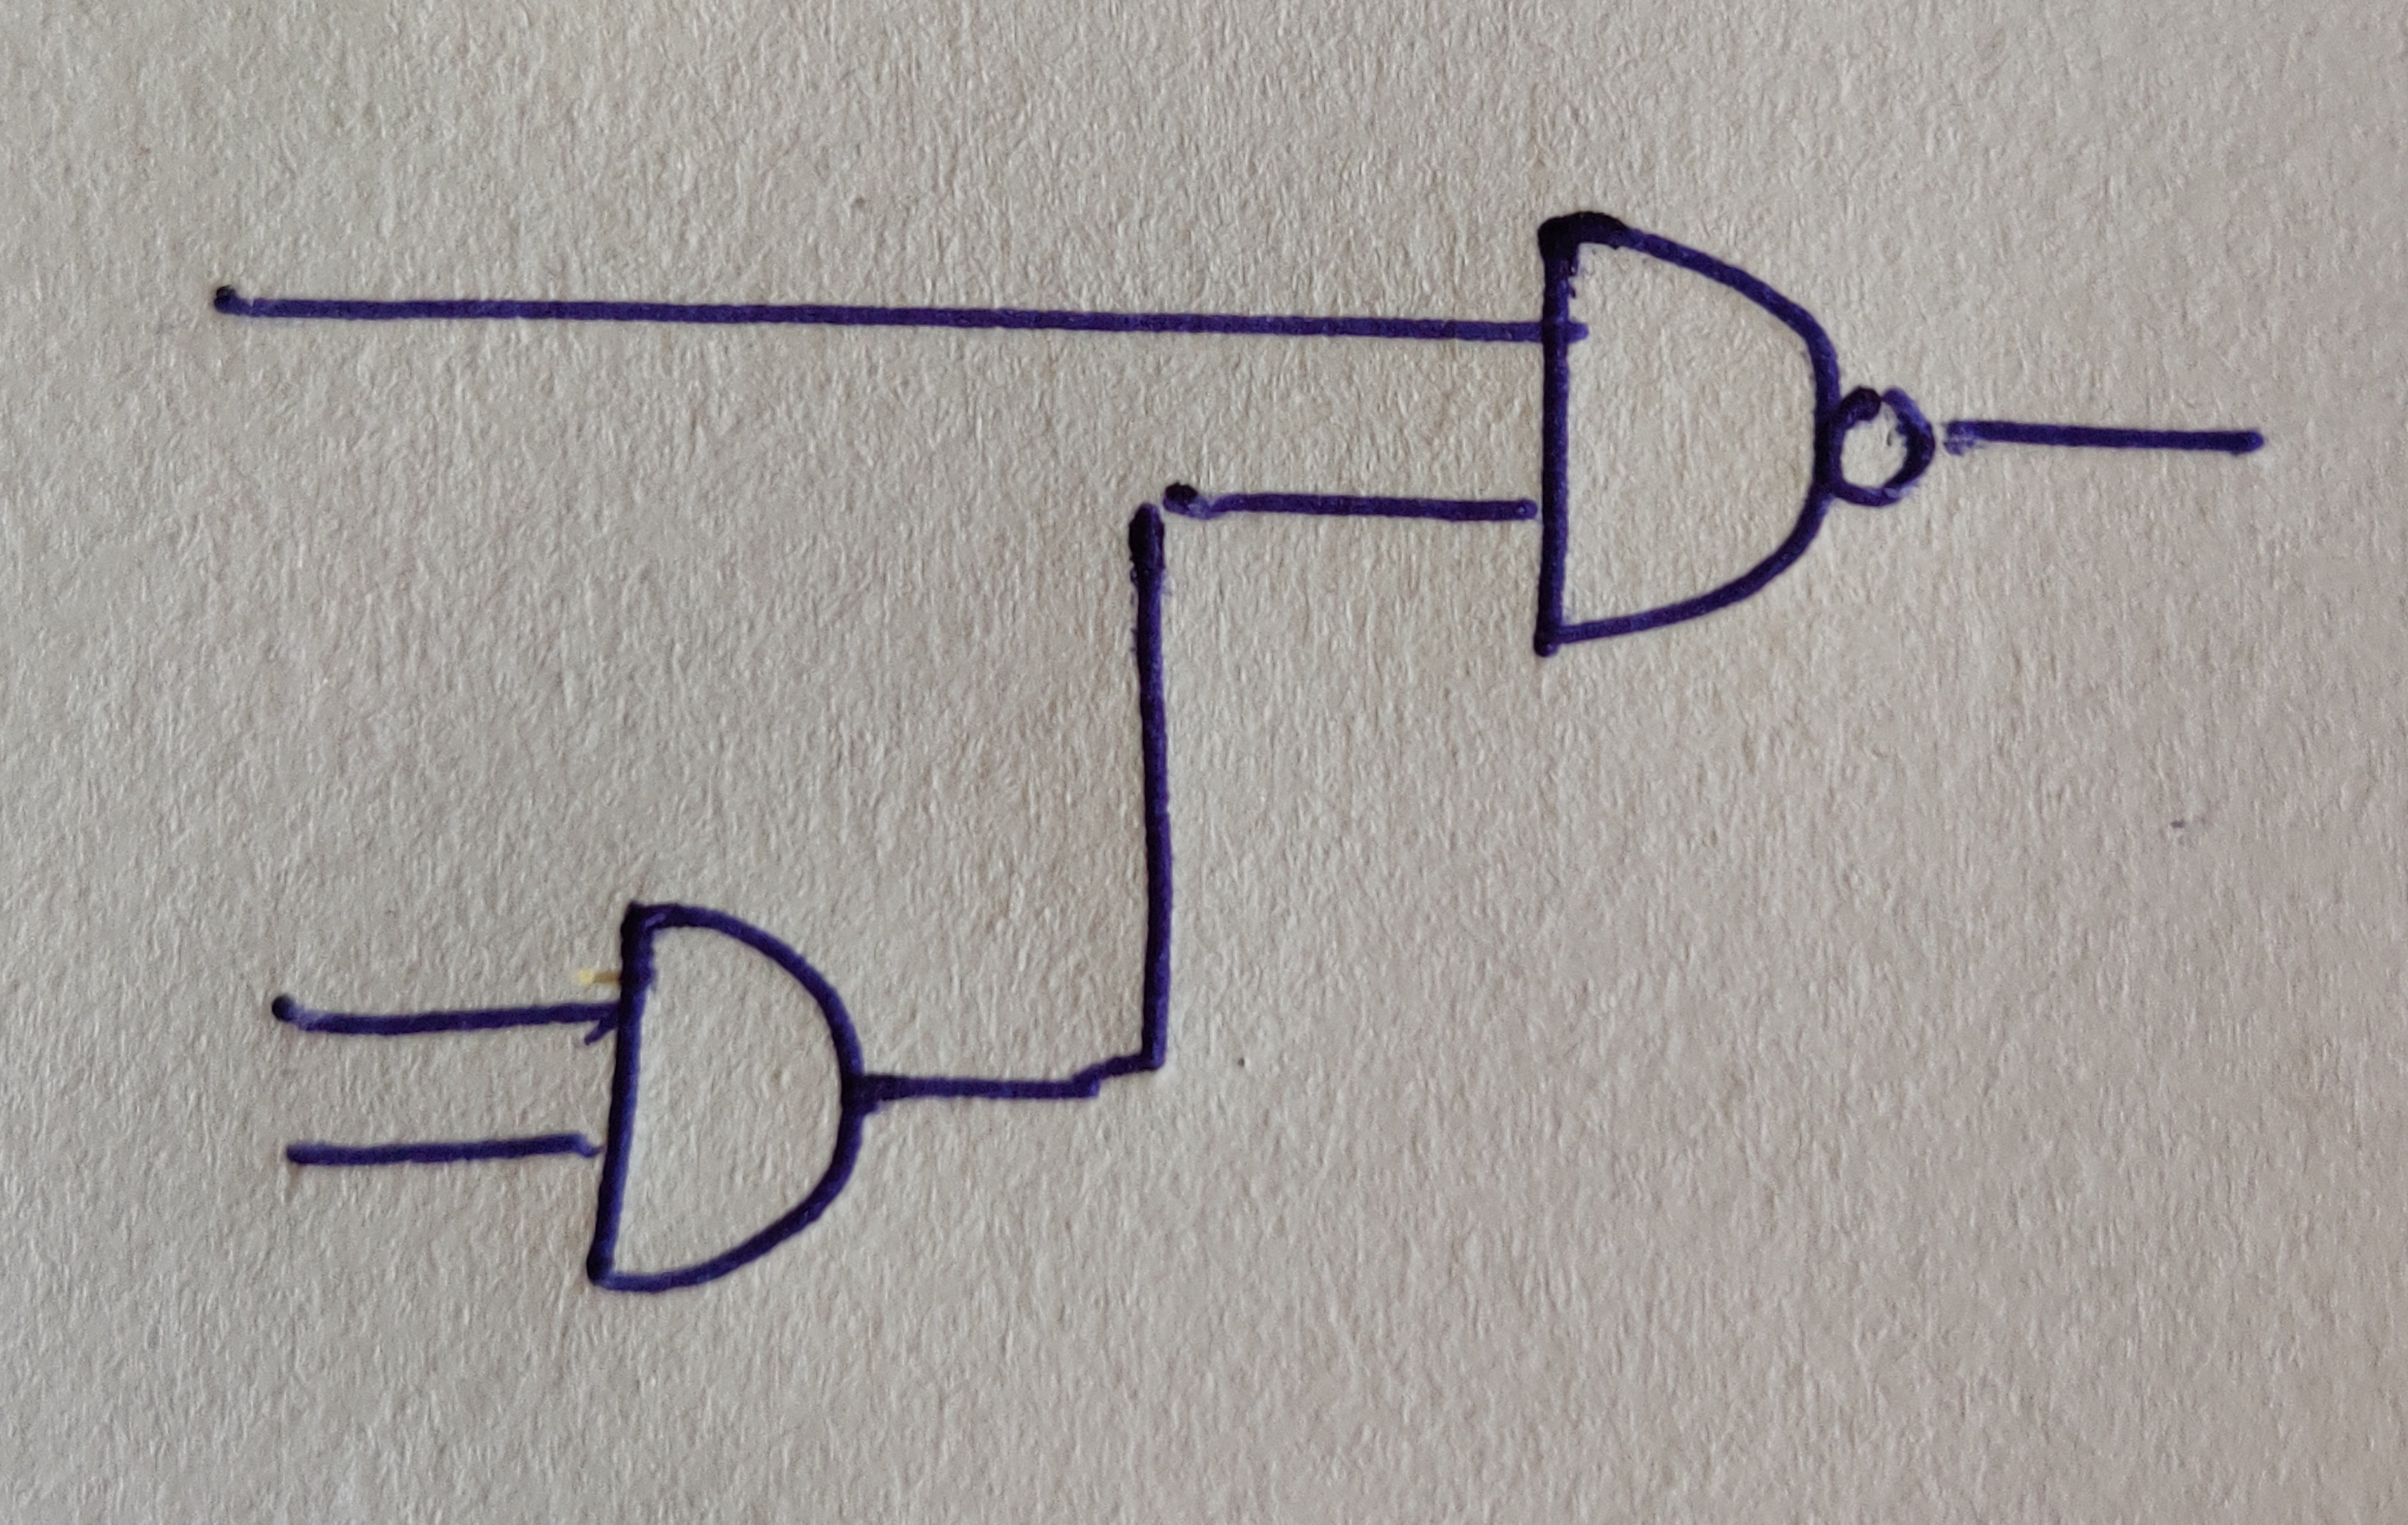and: (1537, 212, 1841, 658), (579, 904, 862, 1295)
not: (1836, 386, 1936, 507)
